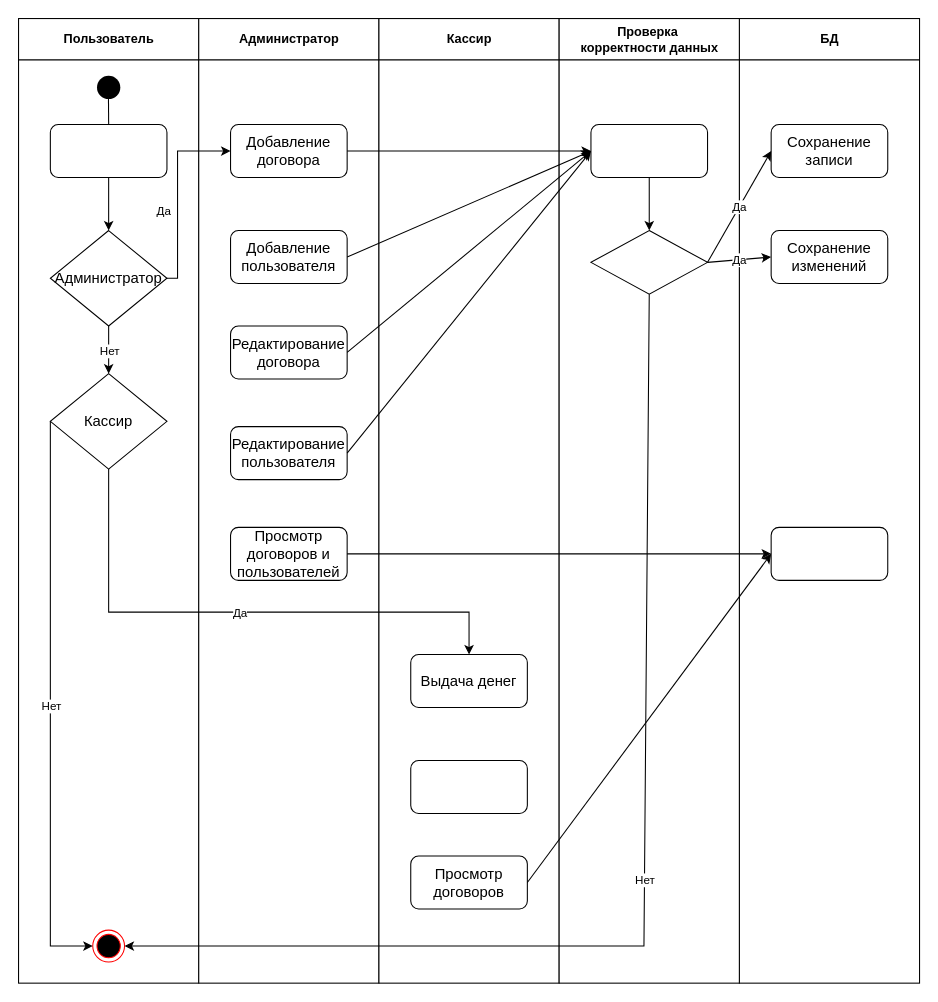
This 938x1002 diagram has some shape labels left out. Here are the shapes that lost their labels. From the top down, the box of each, then its label:
(49, 123, 167, 178): Авторизация
(590, 123, 708, 178): Проверка введенных данных
(590, 229, 708, 294): Данные корректны?
(770, 526, 888, 580): Предоставление данных
(410, 759, 527, 814): Расчет процентов и пени
